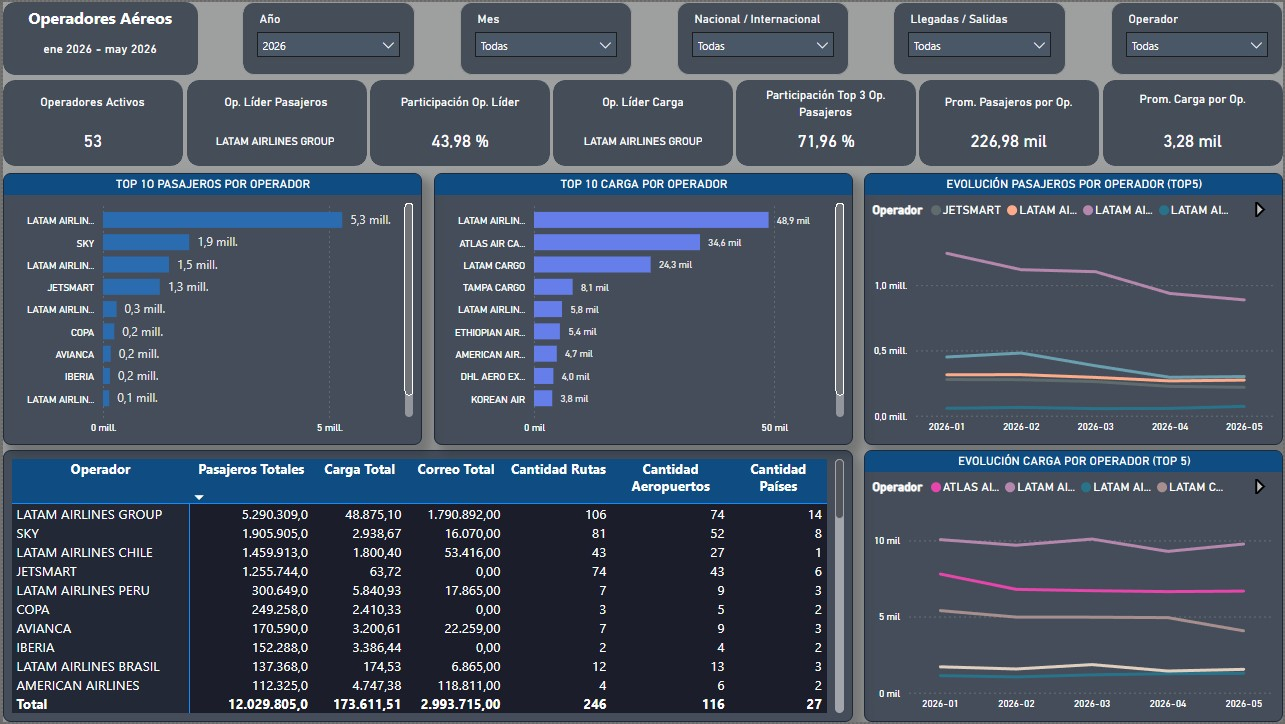

Layout of this report page (visuals, bound fields, positions):
{"tool":"powerbi","page":{"name":"Operadores Aereos","canvas":[1280,720],"ordinal":2},"visuals":[{"type":"shape","box":[916.3,78,180,86.1],"z":0},{"type":"shape","box":[1099.5,78,180.5,86.1],"z":1000},{"type":"shape","box":[733.5,78,179.5,86.1],"z":2000},{"type":"shape","box":[1107.7,0,172.3,72.5],"z":3000},{"type":"shape","box":[0,78,180.5,86.1],"z":4000},{"type":"shape","box":[239.7,0,172.3,72.5],"z":5000},{"type":"slicer","fields":{"Values":["DIM_Calendario.Año"]},"box":[239.4,0,172.3,72.5],"z":6000},{"type":"shape","box":[456.7,0,172.3,72.5],"z":7000},{"type":"slicer","fields":{"Values":["DIM_Operador.Operador"]},"box":[1108.1,0,172.3,72.5],"z":8000},{"type":"shape","box":[673.7,0,172.3,72.5],"z":9000},{"type":"slicer","fields":{"Values":["DIM_Nac/Int.NAC"]},"box":[673.8,0,172.3,72.5],"z":10000},{"type":"shape","box":[890.7,0,172.3,72.5],"z":11000},{"type":"slicer","fields":{"Values":["DIM_Operacion.Llegadas / Salidas"]},"box":[890.5,0,172.3,72.5],"z":12000},{"type":"cardVisual","fields":{"Data":["Medidas.Operadores Activos"]},"box":[0,111.3,180.5,52.6],"z":13000},{"type":"shape","box":[183.7,78,180,86.1],"z":14000},{"type":"cardVisual","fields":{"Data":["Medidas.Top Operador Pasajeros"]},"box":[180.5,107.2,184.1,60.8],"z":15000},{"type":"shape","box":[367,78,180,86.1],"z":16000},{"type":"cardVisual","fields":{"Data":["Medidas.% Lider Pasajeros"]},"box":[367.3,111.7,180.5,51.7],"z":17000},{"type":"shape","box":[550.2,78,180,86.1],"z":18000},{"type":"cardVisual","fields":{"Data":["Medidas.Top Operador Carga"]},"box":[550.4,111.7,180.5,51.7],"z":19000},{"type":"slicer","fields":{"Values":["DIM_Calendario.Mes"]},"box":[457,0,172.3,72.5],"z":20000},{"type":"barChart","title":"TOP 1O PASAJEROS POR OPERADOR","fields":{"Y":["Medidas.Pasajeros Totales"],"Category":["DIM_Operador.Operador"]},"box":[0,171.4,418.9,272],"z":21000},{"type":"shape","box":[0,0,195,72.5],"z":22000},{"type":"textbox","box":[7.3,0,180.5,36.3],"z":23000},{"type":"cardVisual","fields":{"Data":["Medidas.Periodo Seleccionado"]},"box":[0,18.1,195,54.4],"z":24000},{"type":"barChart","title":"TOP 10 CARGA POR OPERADOR","fields":{"Y":["Medidas.Carga Total"],"Category":["DIM_Operador.Operador"]},"box":[430.7,171.4,418.9,272],"z":25000},{"type":"cardVisual","fields":{"Data":["Medidas.Promedio Pasajeros por Operador"]},"box":[915.9,110.8,180.5,53.5],"z":26000},{"type":"textbox","box":[915.9,85.2,180.5,36.3],"z":27000},{"type":"cardVisual","fields":{"Data":["Medidas.Promedio Carga por Operador"]},"box":[1099.9,111.3,180.5,52.6],"z":28000},{"type":"textbox","box":[1099.9,81.6,180.5,36.3],"z":29000},{"type":"cardVisual","fields":{"Data":["Medidas.% Top 3 Operadores Pasajeros"]},"box":[733.6,111.3,179.5,52.6],"z":30000},{"type":"textbox","box":[747.2,78,151.4,43.5],"z":31000},{"type":"pivotTable","fields":{"Values":["Medidas.Pasajeros Totales","Medidas.Carga Total","Medidas.Correo Total","Medidas.Cantidad Rutas","Medidas.Cantidad Aeropuertos","Medidas.Cantidad Países"],"Rows":["DIM_Operador.Operador"]},"box":[0,448,849.7,272],"z":32000},{"type":"lineChart","title":"EVOLUCIÓN PASAJEROS POR OPERADOR (TOP5)","fields":{"Category":["DIM_Calendario.Año-Mes"],"Series":["DIM_Operador.Operador"],"Y":["Medidas.Pasajeros Totales"]},"box":[861.5,171.4,418.9,272],"z":33000},{"type":"lineChart","title":"EVOLUCIÓN CARGA POR OPERADOR (TOP 5)","fields":{"Category":["DIM_Calendario.Año-Mes"],"Series":["DIM_Operador.Operador"],"Y":["Medidas.Carga Total"]},"box":[861.5,448,418.9,272],"z":34000},{"type":"textbox","box":[0,85.2,180.5,36.3],"z":35000},{"type":"textbox","box":[183.2,85.2,180.5,36.3],"z":36000},{"type":"textbox","box":[367.3,85.2,180.5,36.3],"z":37000},{"type":"textbox","box":[550.4,85.2,180.5,36.3],"z":38000}]}

Visuals, with their boxes in screenshot pixels (x1, y1, x2, y2), scaled from the page's 1280x720 canvas onto the 1285x724 screenshot:
shape: pyautogui.locateOnScreen(920, 78, 1101, 165)
shape: pyautogui.locateOnScreen(1104, 78, 1284, 165)
shape: pyautogui.locateOnScreen(736, 78, 917, 165)
shape: pyautogui.locateOnScreen(1112, 0, 1284, 73)
shape: pyautogui.locateOnScreen(0, 78, 181, 165)
shape: pyautogui.locateOnScreen(241, 0, 414, 73)
slicer - DIM_Calendario.Año: pyautogui.locateOnScreen(240, 0, 413, 73)
shape: pyautogui.locateOnScreen(458, 0, 631, 73)
slicer - DIM_Operador.Operador: pyautogui.locateOnScreen(1112, 0, 1284, 73)
shape: pyautogui.locateOnScreen(676, 0, 849, 73)
slicer - DIM_Nac/Int.NAC: pyautogui.locateOnScreen(676, 0, 849, 73)
shape: pyautogui.locateOnScreen(894, 0, 1067, 73)
slicer - DIM_Operacion.Llegadas / Salidas: pyautogui.locateOnScreen(894, 0, 1067, 73)
cardVisual - Medidas.Operadores Activos: pyautogui.locateOnScreen(0, 112, 181, 165)
shape: pyautogui.locateOnScreen(184, 78, 365, 165)
cardVisual - Medidas.Top Operador Pasajeros: pyautogui.locateOnScreen(181, 108, 366, 169)
shape: pyautogui.locateOnScreen(368, 78, 549, 165)
cardVisual - Medidas.% Lider Pasajeros: pyautogui.locateOnScreen(369, 112, 550, 164)
shape: pyautogui.locateOnScreen(552, 78, 733, 165)
cardVisual - Medidas.Top Operador Carga: pyautogui.locateOnScreen(553, 112, 734, 164)
slicer - DIM_Calendario.Mes: pyautogui.locateOnScreen(459, 0, 632, 73)
"TOP 1O PASAJEROS POR OPERADOR" barChart: pyautogui.locateOnScreen(0, 172, 421, 446)
shape: pyautogui.locateOnScreen(0, 0, 196, 73)
textbox: pyautogui.locateOnScreen(7, 0, 189, 37)
cardVisual - Medidas.Periodo Seleccionado: pyautogui.locateOnScreen(0, 18, 196, 73)
"TOP 10 CARGA POR OPERADOR" barChart: pyautogui.locateOnScreen(432, 172, 853, 446)
cardVisual - Medidas.Promedio Pasajeros por Operador: pyautogui.locateOnScreen(919, 111, 1101, 165)
textbox: pyautogui.locateOnScreen(919, 86, 1101, 122)
cardVisual - Medidas.Promedio Carga por Operador: pyautogui.locateOnScreen(1104, 112, 1284, 165)
textbox: pyautogui.locateOnScreen(1104, 82, 1284, 119)
cardVisual - Medidas.% Top 3 Operadores Pasajeros: pyautogui.locateOnScreen(736, 112, 917, 165)
textbox: pyautogui.locateOnScreen(750, 78, 902, 122)
pivotTable - Medidas.Pasajeros Totales x Medidas.Carga Total: pyautogui.locateOnScreen(0, 450, 853, 723)
"EVOLUCIÓN PASAJEROS POR OPERADOR (TOP5)" lineChart: pyautogui.locateOnScreen(865, 172, 1284, 446)
"EVOLUCIÓN CARGA POR OPERADOR (TOP 5)" lineChart: pyautogui.locateOnScreen(865, 450, 1284, 723)
textbox: pyautogui.locateOnScreen(0, 86, 181, 122)
textbox: pyautogui.locateOnScreen(184, 86, 365, 122)
textbox: pyautogui.locateOnScreen(369, 86, 550, 122)
textbox: pyautogui.locateOnScreen(553, 86, 734, 122)
